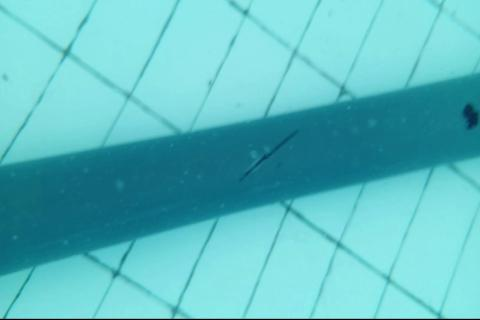kebocoran: (462, 101, 480, 131)
keretakan: (236, 129, 300, 182)
